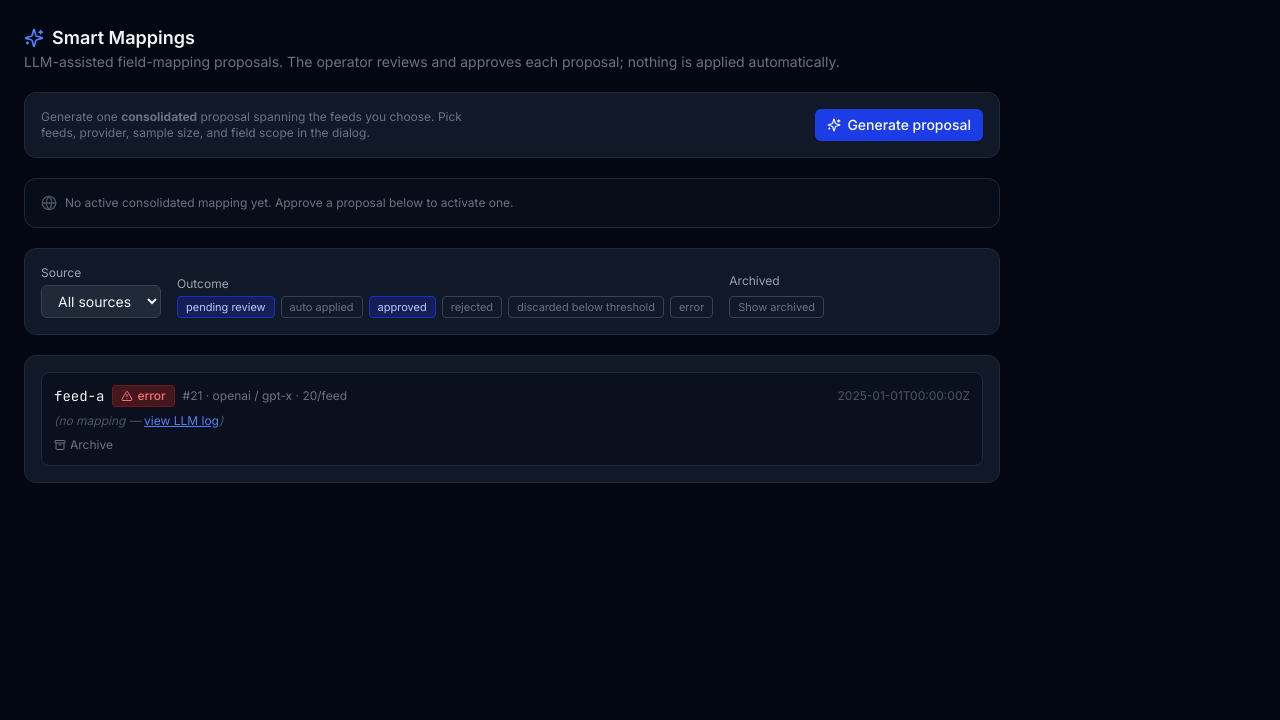
Test case: SmartMappings page — error-log popup › opens the LLM log popup from a no-mapping row
Click the button "view LLM log": [182, 421] box x1=144 y1=413 x2=219 y2=429
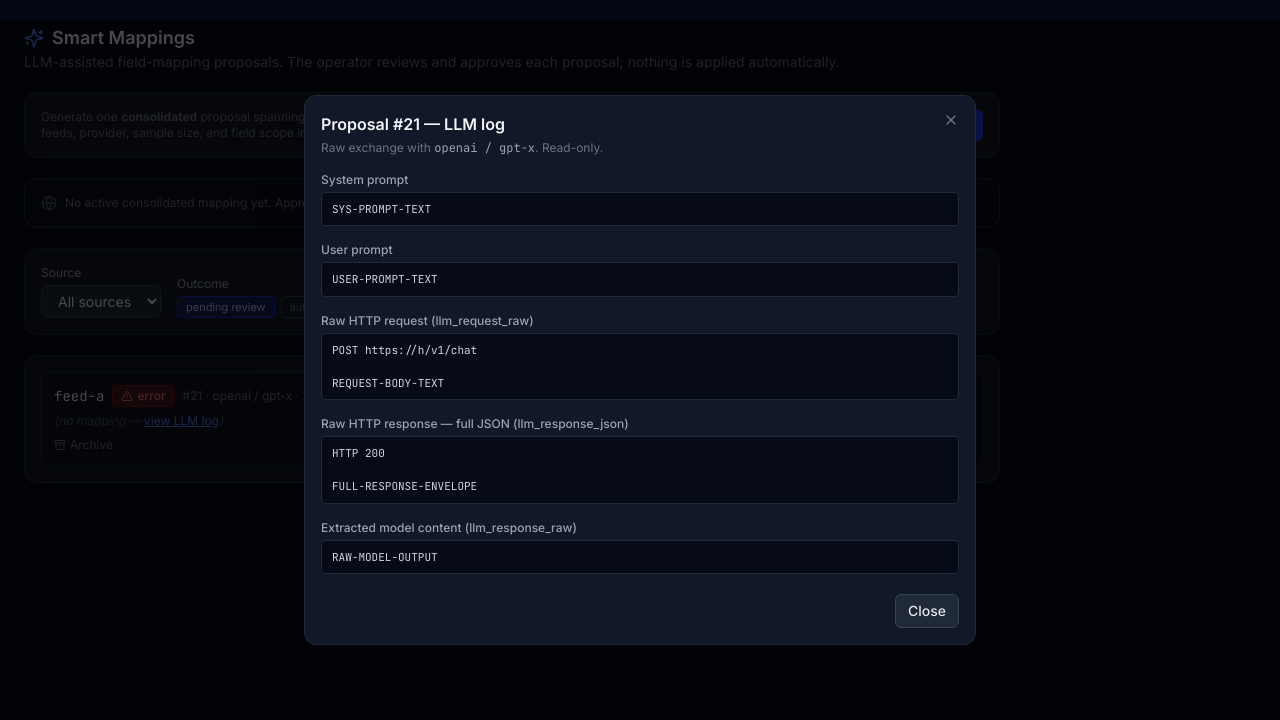
Check: the dialog shows "Proposal #21", box x1=321 y1=114 x2=505 y2=134
Check: the dialog shows "SYS-PROMPT-TEXT", box x1=332 y1=202 x2=431 y2=216
Check: the dialog shows "USER-PROMPT-TEXT", box x1=332 y1=272 x2=438 y2=286
